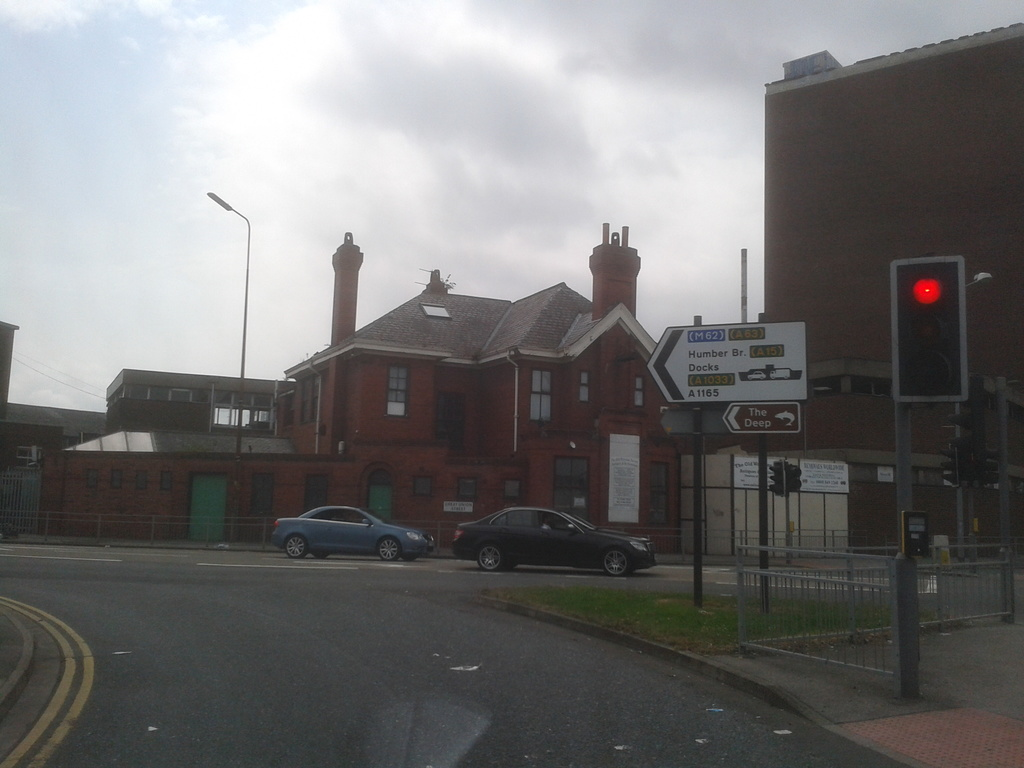red_light: (902, 264, 960, 398)
